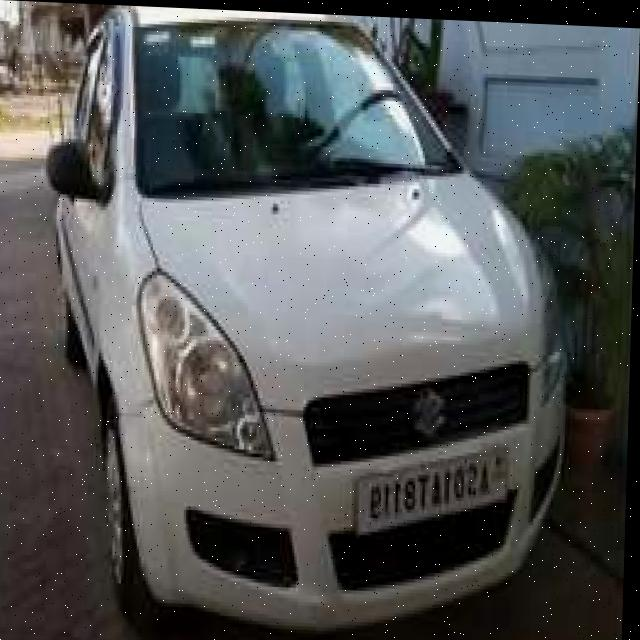plate: (354, 433, 517, 548)
